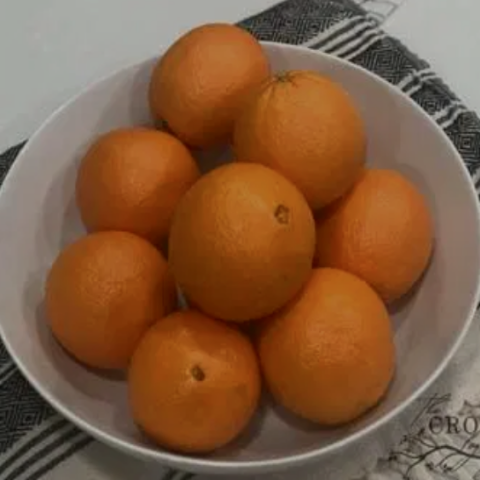orange: (164, 158, 321, 320), (288, 152, 460, 295), (250, 259, 395, 427), (120, 293, 261, 456), (23, 225, 180, 367), (144, 16, 279, 142)
